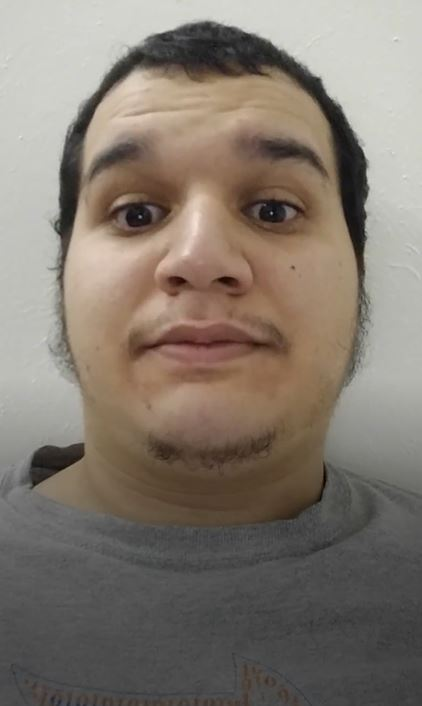Not Sleeping: (84, 165, 327, 250)
